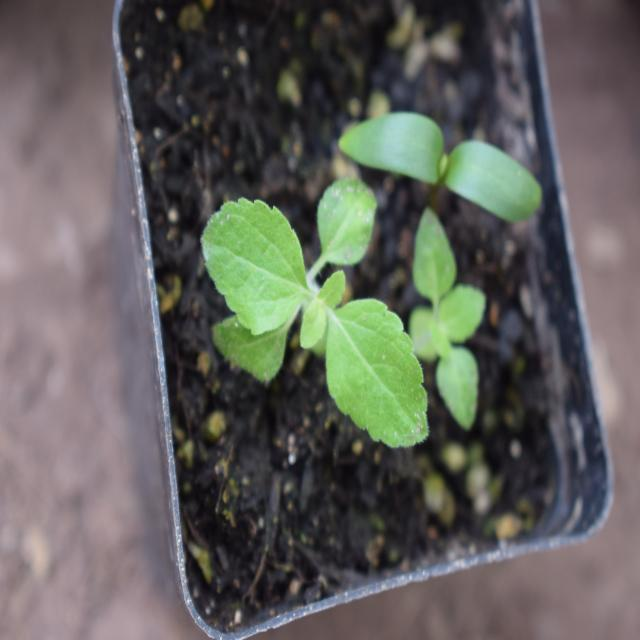billygoat_weed: (204, 176, 430, 460)
